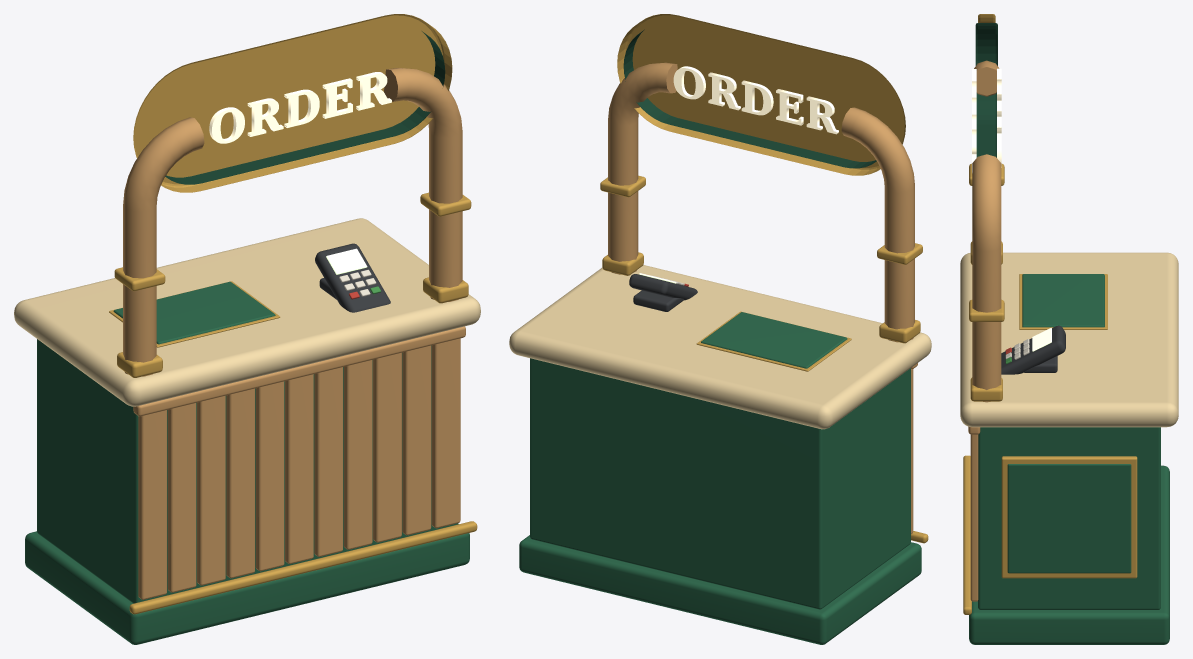
The model's file is order_desk_tier1.glb.
3 renders of one model, left to right at view 1: azimuth 30°, elevation 25°; view 2: azimuth 150°, elevation 25°; view 3: azimuth 270°, elevation 25°, orthographic. The views are drawn at different scales.
Visible parts, largest first — view 1: Top, SignBorder, Body, Plinth, ArchPost-1, ArchPost1, Slat4, Slat10, Slat1, Slat7, Slat9, Slat0 (+15 smaller); view 2: Body, Top, SignBorder, Plinth, ArchPost-1, ArchPost1, OrderMat, SignText1, Sign, Reader, MatTrim, Cradle; view 3: Top, Body, EndInset, Plinth, ArchPost1, OrderMat, EndFrame, Sign, Slat10, Reader, PlinthRail, ArchPost-1 (+6 smaller).
Part boxes in pixels (left/top/right/bottom): Top: left=14, top=218, right=480, bottom=406; SignBorder: left=133, top=14, right=452, bottom=192; Body: left=37, top=339, right=457, bottom=603; Plinth: left=25, top=523, right=469, bottom=644; ArchPost-1: left=123, top=117, right=204, bottom=376; ArchPost1: left=384, top=68, right=462, bottom=301; Slat4: left=255, top=381, right=284, bottom=571; Slat10: left=431, top=338, right=460, bottom=528; Slat1: left=167, top=403, right=196, bottom=592; Slat7: left=343, top=360, right=372, bottom=549; Slat9: left=402, top=345, right=431, bottom=535; Slat0: left=138, top=410, right=166, bottom=599; Body: left=530, top=358, right=910, bottom=609; Top: left=509, top=265, right=931, bottom=429; SignBorder: left=617, top=14, right=905, bottom=175; Plinth: left=519, top=535, right=921, bottom=644; ArchPost-1: left=841, top=107, right=914, bottom=342; ArchPost1: left=608, top=62, right=677, bottom=274; OrderMat: left=701, top=312, right=847, bottom=368; SignText1: left=673, top=66, right=838, bottom=134; Sign: left=623, top=29, right=876, bottom=168; Reader: left=629, top=274, right=697, bottom=300; MatTrim: left=696, top=311, right=851, bottom=371; Cradle: left=633, top=290, right=683, bottom=311; Top: left=960, top=252, right=1178, bottom=427; Body: left=978, top=427, right=1160, bottom=609; EndInset: left=1007, top=464, right=1131, bottom=573; Plinth: left=969, top=465, right=1169, bottom=644; ArchPost1: left=972, top=154, right=1001, bottom=402; OrderMat: left=1022, top=274, right=1104, bottom=327; EndFrame: left=1001, top=456, right=1137, bottom=578; Sign: left=975, top=23, right=997, bottom=157; Slat10: left=970, top=434, right=978, bottom=601; Reader: left=1001, top=325, right=1065, bottom=374; PlinthRail: left=963, top=455, right=971, bottom=614; ArchPost-1: left=974, top=60, right=999, bottom=96.
Bounding box in the file's own units: 1.27 × 1.9 × 0.74.
